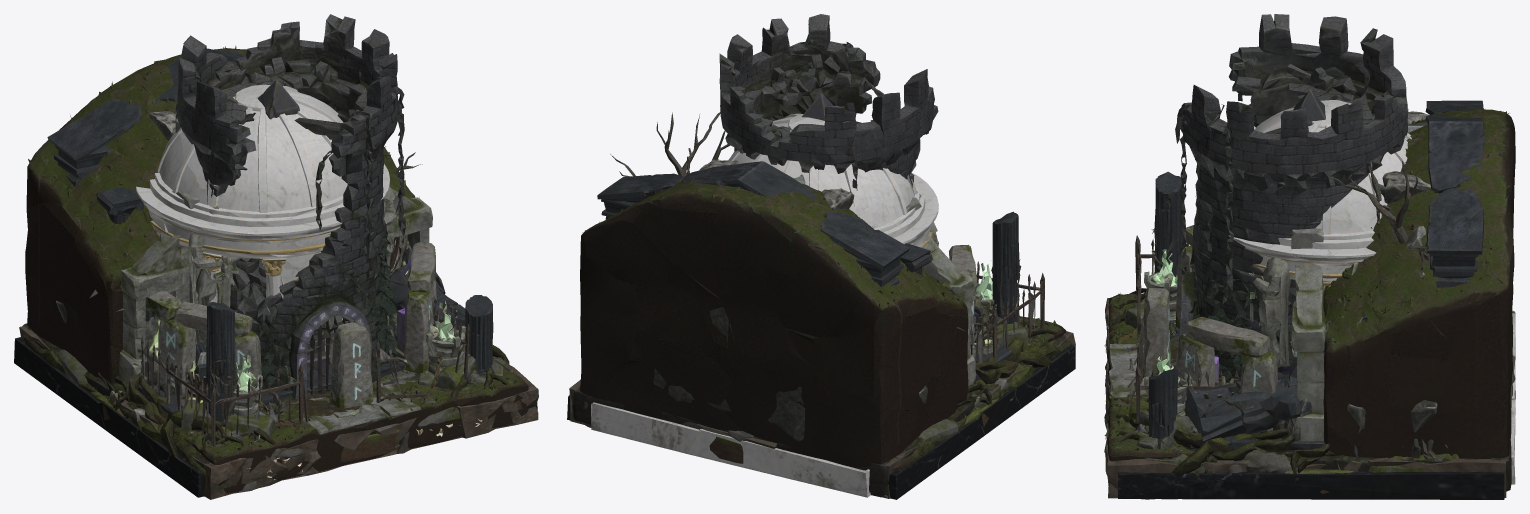
File: sites.glb
3 views of the same model, side by side, from view 1: azimuth 30°, elevation 25°; view 2: azimuth 150°, elevation 25°; view 3: azimuth 270°, elevation 25° (orthographic). The views are drawn at different scales.
Visible parts, largest first — view 1: Ruin_Tower, Ruin_Dungeon, Shrine_Temple, Ruin_Temple, Shrine_Circle, Ruin_Crypt, Ruin_Cave, Shrine_Obelisk; view 2: Ruin_Dungeon, Ruin_Tower, Ruin_Temple, Shrine_Temple, Ruin_Cave, Ruin_Crypt, Shrine_Obelisk, Shrine_Circle; view 3: Ruin_Dungeon, Ruin_Tower, Ruin_Temple, Ruin_Cave, Shrine_Circle, Shrine_Temple, Shrine_Obelisk, Ruin_Crypt.
Boxes of the visible parts, left/top/right/bottom form: Ruin_Tower: left=19, top=14, right=538, bottom=499; Ruin_Dungeon: left=25, top=45, right=528, bottom=493; Shrine_Temple: left=136, top=84, right=482, bottom=482; Ruin_Temple: left=14, top=48, right=537, bottom=497; Shrine_Circle: left=89, top=242, right=436, bottom=462; Ruin_Crypt: left=23, top=152, right=469, bottom=496; Ruin_Cave: left=22, top=111, right=529, bottom=463; Shrine_Obelisk: left=57, top=80, right=514, bottom=493; Ruin_Dungeon: left=580, top=177, right=1066, bottom=467; Ruin_Tower: left=569, top=14, right=1075, bottom=498; Ruin_Temple: left=567, top=161, right=1075, bottom=499; Shrine_Temple: left=591, top=113, right=938, bottom=497; Ruin_Cave: left=573, top=159, right=1065, bottom=495; Ruin_Crypt: left=610, top=112, right=1070, bottom=497; Shrine_Obelisk: left=581, top=93, right=1054, bottom=493; Shrine_Circle: left=709, top=244, right=998, bottom=463; Ruin_Dungeon: left=1104, top=105, right=1515, bottom=482; Ruin_Tower: left=1104, top=14, right=1515, bottom=499; Ruin_Temple: left=1118, top=100, right=1504, bottom=499; Ruin_Cave: left=1112, top=111, right=1511, bottom=491; Shrine_Circle: left=1105, top=225, right=1515, bottom=494; Shrine_Temple: left=1104, top=100, right=1515, bottom=484; Shrine_Obelisk: left=1104, top=90, right=1515, bottom=499; Ruin_Crypt: left=1125, top=122, right=1429, bottom=423.
Bounding box in the file's own units: 1.84 × 1.75 × 1.84.
14 materials, 14 textured.
